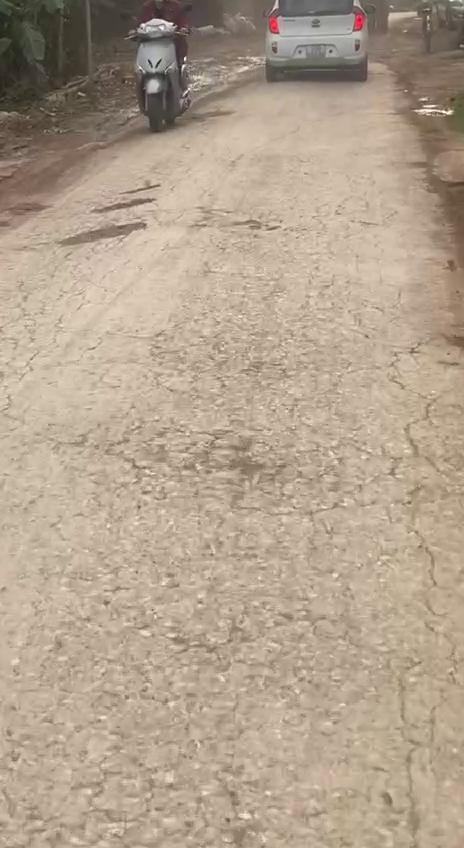pothole: (56, 217, 150, 254)
